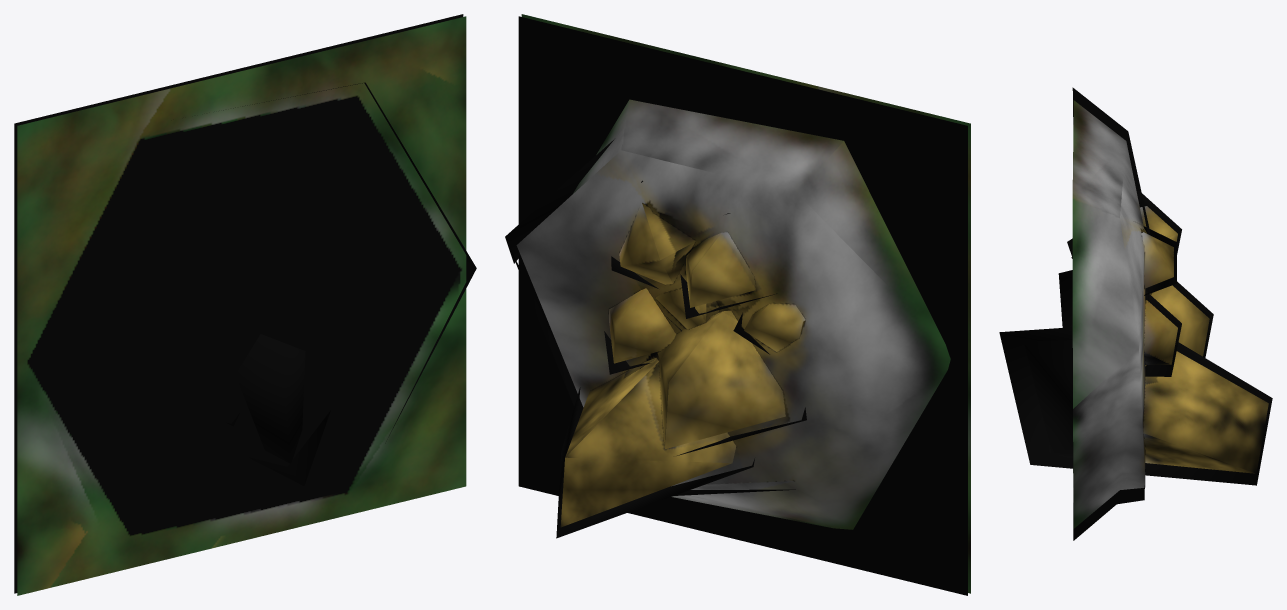
The model's file is Gold.fbx.
3 renders of one model, left to right at view 1: azimuth 30°, elevation 25°; view 2: azimuth 150°, elevation 25°; view 3: azimuth 270°, elevation 25°, orthographic. The views are drawn at different scales.
Visible parts, largest first — view 1: Building.004; view 2: Building.004; view 3: Building.004.
Boxes of the visible parts, bbox=[...] form: Building.004: bbox=[14, 14, 476, 595]; Building.004: bbox=[505, 14, 970, 595]; Building.004: bbox=[999, 87, 1272, 540].
Bounding box in the file's own units: 102 × 100 × 62.42.
